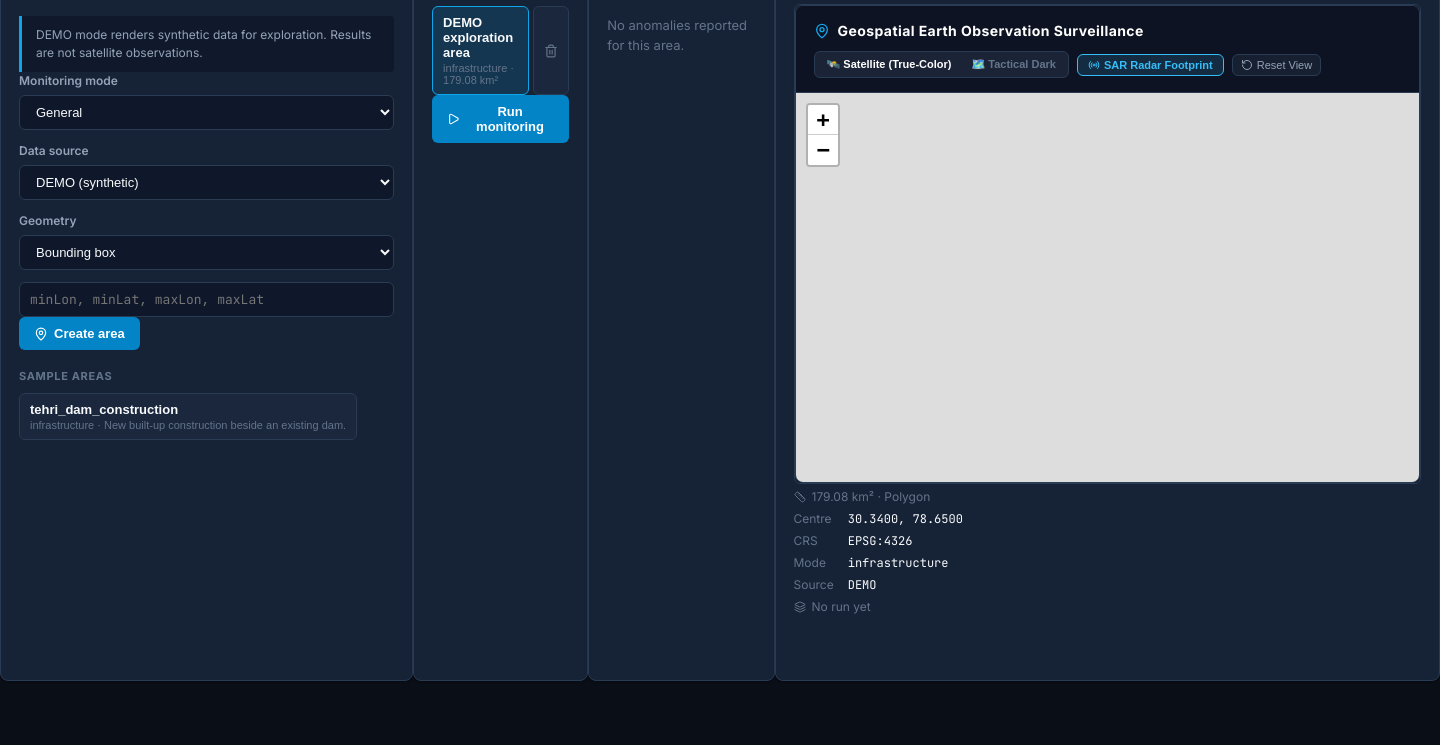
Scenario: AoiMonitoringView › reports the three confidence measures separately
The image size is (1440, 745).
Click the button "Run monitoring": x=501, y=119 x1=432 y1=95 x2=569 y2=143
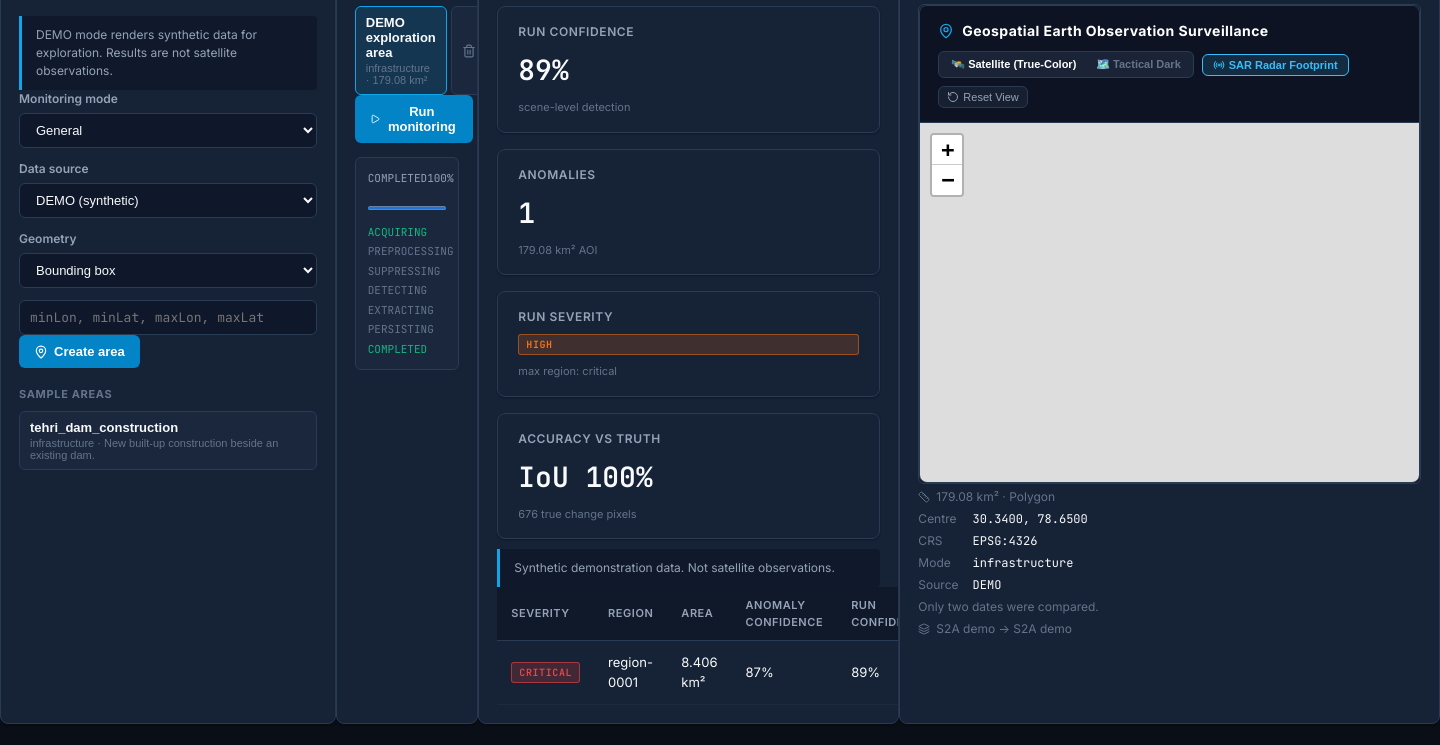
Click the text "region-0001": x=631, y=672 x1=594 y1=640 x2=667 y2=704
(page scrolled)
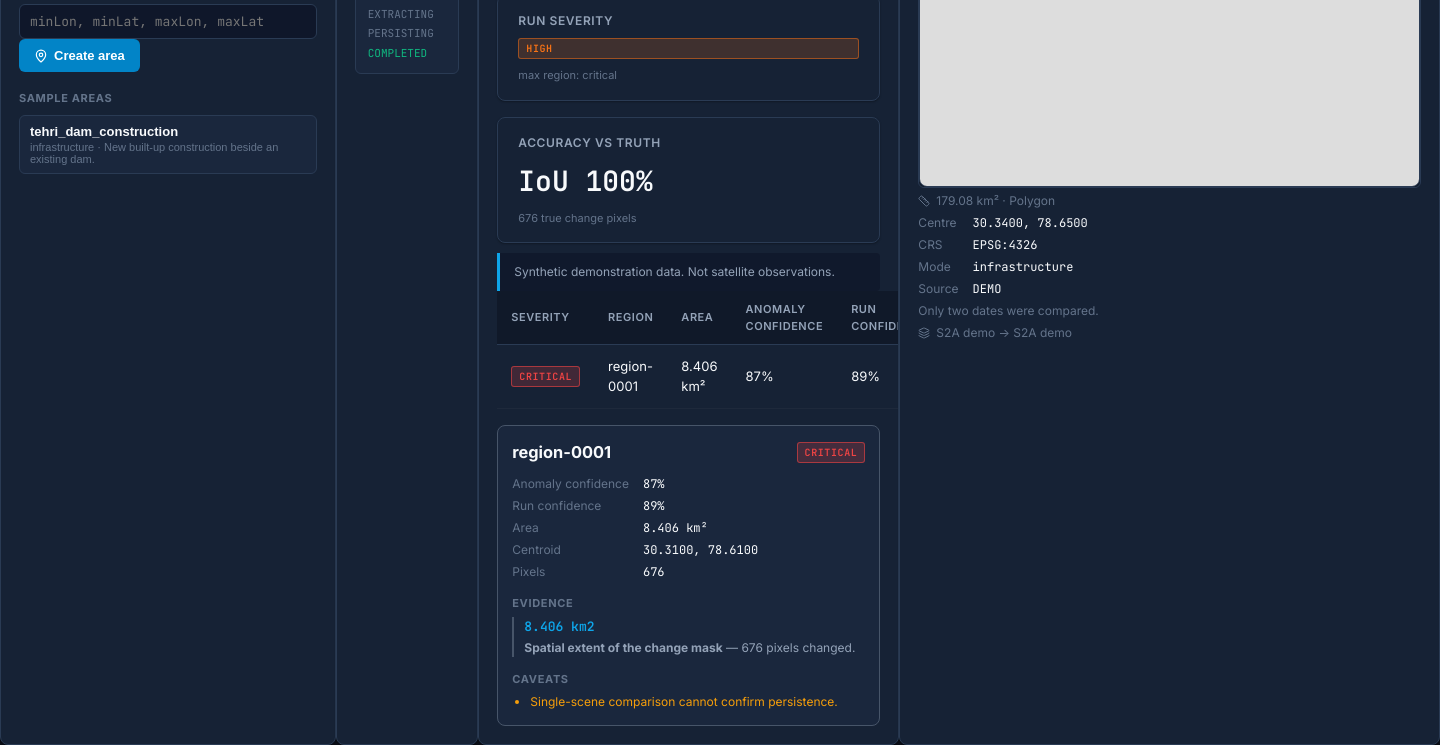
Expected: the text "Anomaly confidence" is shown, x1=512 y1=475 x2=629 y2=493
Expected: the text "Run confidence" is shown, x1=512 y1=498 x2=601 y2=513
Expected: the text "87%" is shown, x1=643 y1=476 x2=665 y2=492
